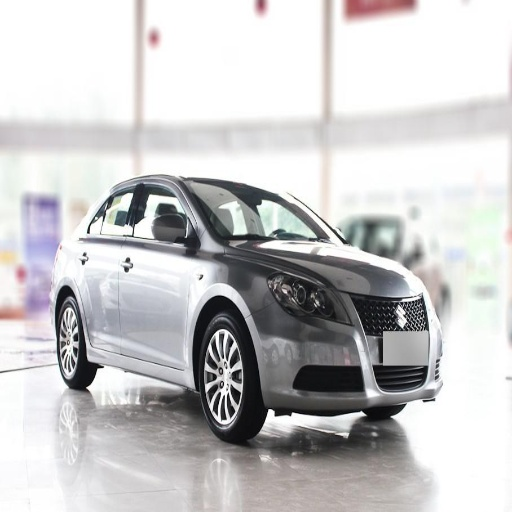front_bumper: (252, 289, 438, 416)
front_right_door: (119, 180, 200, 367)
front_right_light: (267, 271, 347, 321)
